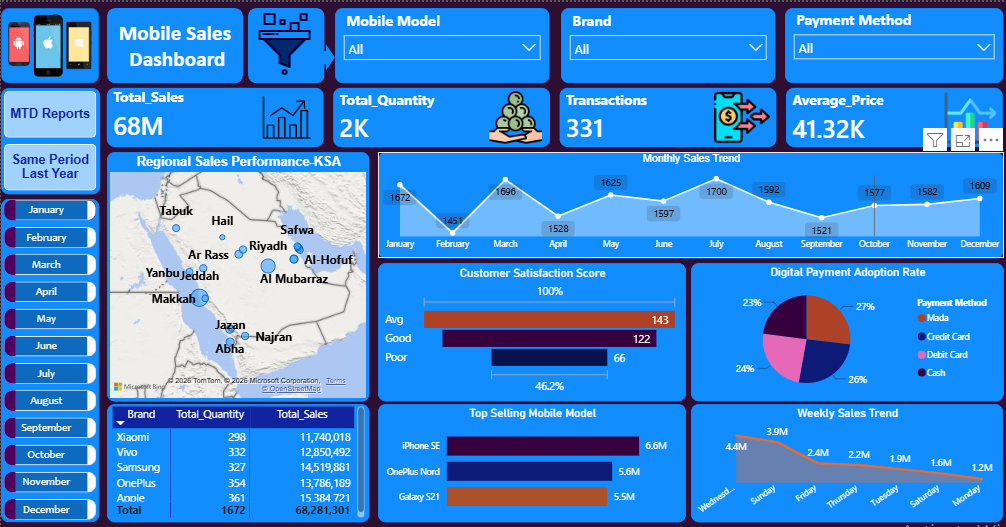

Layout of this report page (visuals, bound fields, positions):
{"tool":"powerbi","page":{"name":"Dashboard","canvas":[1280,720],"ordinal":0},"visuals":[{"type":"shape","box":[0,7.5,122.5,94.2],"z":0},{"type":"image","box":[5,12.5,110,83.8],"z":1000},{"type":"shape","box":[0,246,122.5,403.8],"z":3000},{"type":"cardVisual","fields":{"Data":["Sales_Data.Total_Sales","Sales_Data.Total_Quantity","Sales_Data.Transactions","Sales_Data.Average_Price"]},"box":[106.7,81.3,1173.3,126.7],"z":4000},{"type":"slicer","fields":{"Values":["Sales_Data.Mobile Model"]},"box":[417.5,7.5,267.5,94.2],"z":5000},{"type":"slicer","fields":{"Values":["Sales_Data.Brand"]},"box":[700,7.5,268.3,94.2],"z":6000},{"type":"slicer","fields":{"Values":["Sales_Data.Payment Method"]},"box":[980,7.5,273.3,94.2],"z":7000},{"type":"shape","box":[309.2,7.5,95.8,94.2],"z":8000},{"type":"image","box":[302.5,12.5,103.8,80],"z":9000},{"type":"shape","box":[395,52.5,22.5,33.3],"z":10000},{"type":"shape","box":[132.5,7.5,170,94.2],"z":11000},{"type":"textbox","box":[135,17.5,165,75],"z":12000},{"type":"map","title":"Regional Sales Performance-KSA","fields":{"Category":["Sales_Data.City"],"Size":["Sales_Data.Total_Sales"]},"box":[132.5,187.5,327.5,311.7],"z":13000},{"type":"advancedSlicerVisual","fields":{"Values":["Custom_Calendar.Date.Variation.Date Hierarchy.Month"]},"box":[0,246.4,123.2,404.1],"z":14000},{"type":"lineChart","title":"Monthly Sales Trend","fields":{"Y":["Sales_Data.Total_Quantity"],"Category":["Custom_Calendar.Date.Variation.Date Hierarchy.Month"]},"box":[471.7,187.5,781.7,132.5],"z":15000},{"type":"funnel","title":"Customer Satisfaction Score","fields":{"Y":["CountNonNull(Sales_Data.Customer Ratings)"],"Category":["Sales_Data.Rating Status"]},"box":[471.7,326.7,385,172.5],"z":16000},{"type":"pieChart","title":"Digital Payment Adoption Rate","fields":{"Y":["Sales_Data.Transactions"],"Category":["Sales_Data.Payment Method"]},"box":[862.5,326.7,390.8,172.5],"z":17000},{"type":"clusteredBarChart","title":"Top Selling Mobile Model","fields":{"Y":["Sales_Data.Total_Sales"],"Category":["Sales_Data.Mobile Model"]},"box":[471.7,502.5,385,147.5],"z":18000},{"type":"areaChart","title":"Weekly Sales Trend","fields":{"Y":["Sales_Data.Total_Sales"],"Category":["Custom_Calendar.Day Name"]},"box":[862.5,502.5,390,147.5],"z":19000},{"type":"tableEx","fields":{"Values":["Sales_Data.Brand","Sales_Data.Total_Quantity","Sales_Data.Total_Sales"]},"box":[132.5,502.5,327.5,147.5],"z":20000},{"type":"pageNavigator","box":[0,107.5,123.8,132.5],"z":20001}]}

Visuals, with their boxes on the page's 1280x720 design canvas (x1, y1, x2, y2). These are canvas units, not pixel positions in the 1006x527 screenshot, which may show the page scaled, cropped or inside an application window:
shape: locate(0, 8, 122, 102)
image: locate(5, 12, 115, 96)
shape: locate(0, 246, 122, 650)
cardVisual - Sales_Data.Total_Sales x Sales_Data.Total_Quantity: locate(107, 81, 1280, 208)
slicer - Sales_Data.Mobile Model: locate(418, 8, 685, 102)
slicer - Sales_Data.Brand: locate(700, 8, 968, 102)
slicer - Sales_Data.Payment Method: locate(980, 8, 1253, 102)
shape: locate(309, 8, 405, 102)
image: locate(302, 12, 406, 92)
shape: locate(395, 52, 418, 86)
shape: locate(132, 8, 302, 102)
textbox: locate(135, 18, 300, 92)
"Regional Sales Performance-KSA" map: locate(132, 188, 460, 499)
advancedSlicerVisual - Custom_Calendar.Date.Variation.Date Hierarchy.Month: locate(0, 246, 123, 650)
"Monthly Sales Trend" lineChart: locate(472, 188, 1253, 320)
"Customer Satisfaction Score" funnel: locate(472, 327, 857, 499)
"Digital Payment Adoption Rate" pieChart: locate(862, 327, 1253, 499)
"Top Selling Mobile Model" clusteredBarChart: locate(472, 502, 857, 650)
"Weekly Sales Trend" areaChart: locate(862, 502, 1252, 650)
tableEx - Sales_Data.Brand x Sales_Data.Total_Quantity: locate(132, 502, 460, 650)
pageNavigator: locate(0, 108, 124, 240)
